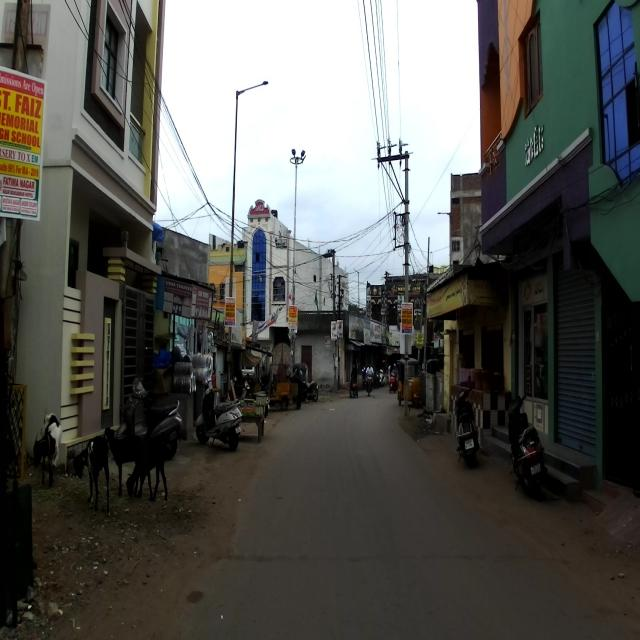scooter: (114, 374, 183, 462), (508, 394, 548, 499), (194, 378, 243, 452), (452, 385, 480, 467)
